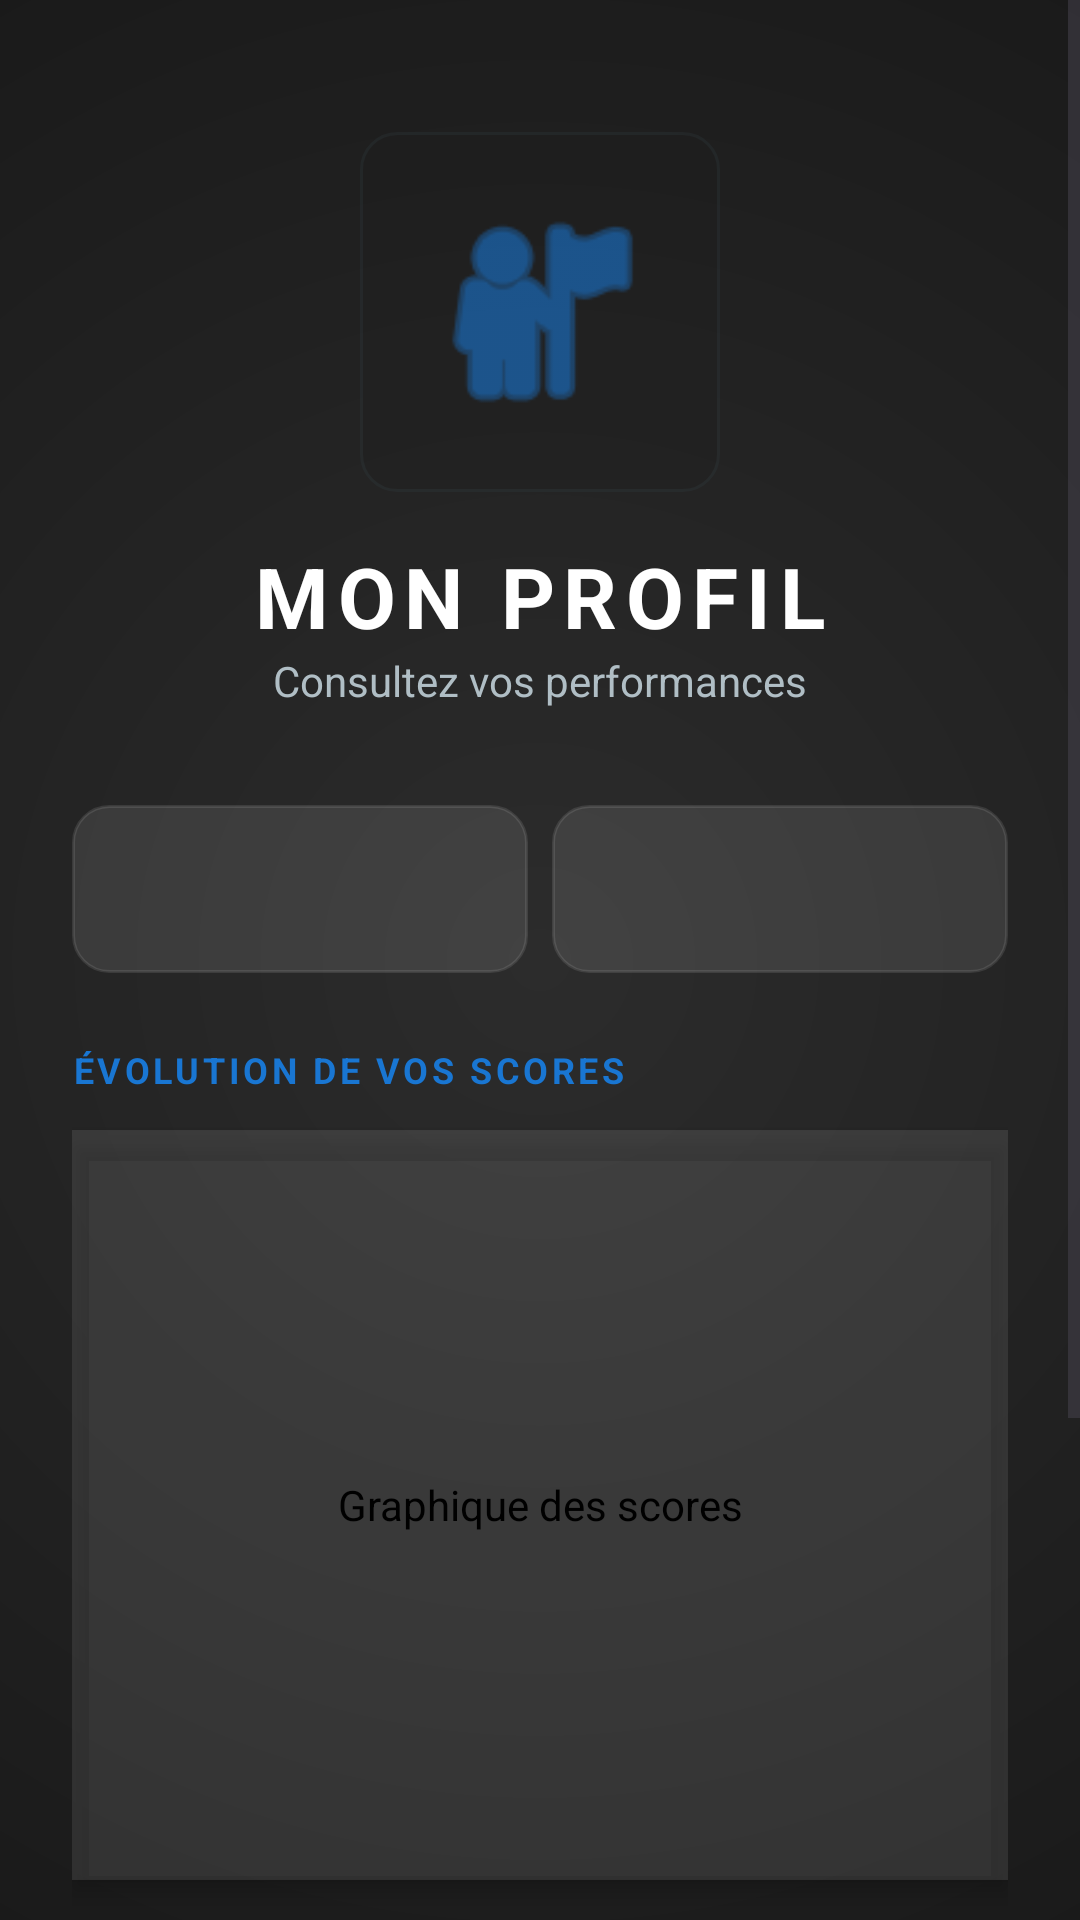

Where to tap for icons on this 1080x1920 app screen, as point (x, y):
Icône de profil: point (542, 312)
